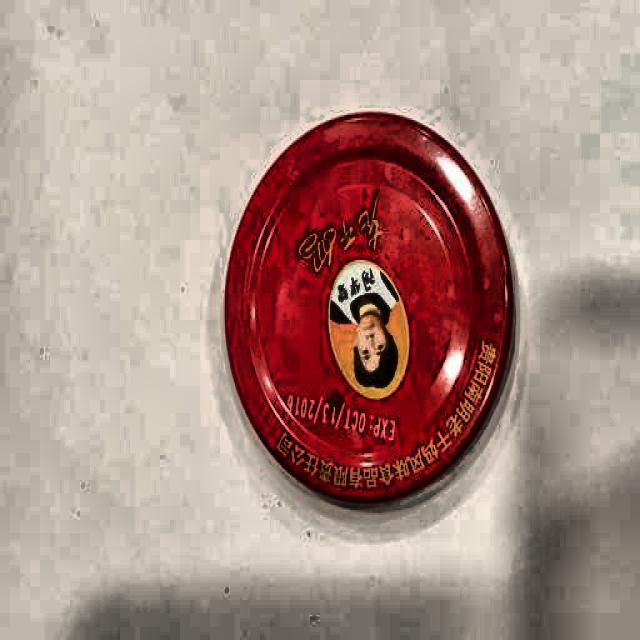metal: (221, 109, 515, 503)
